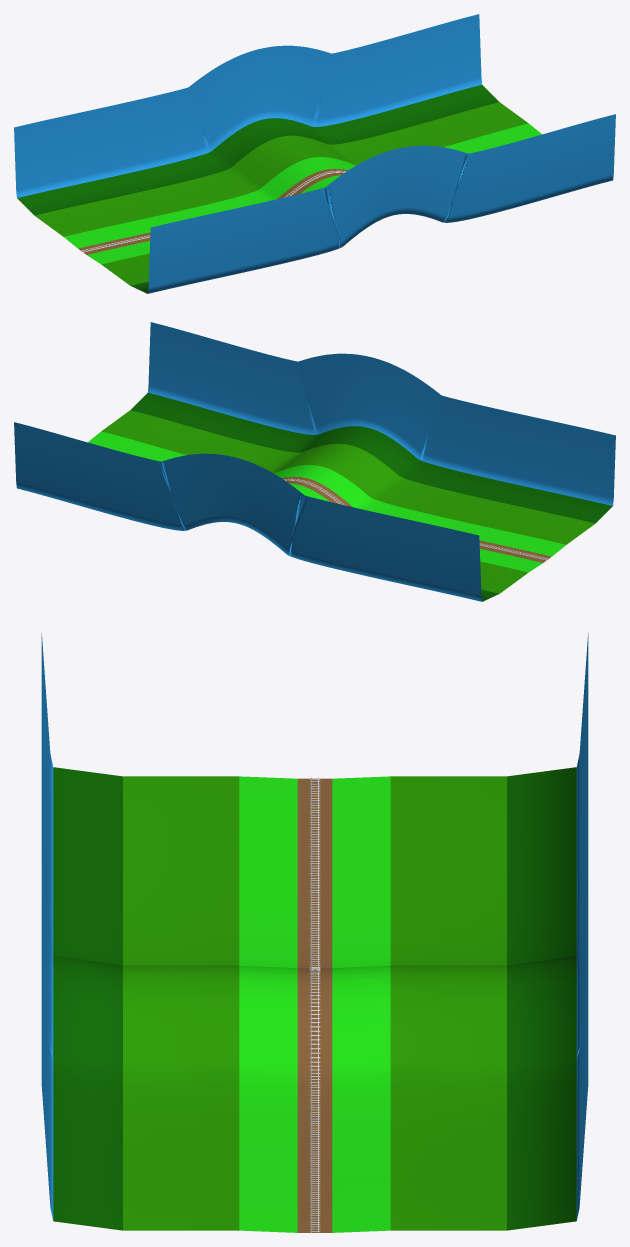
The model's file is Bache1.fbx.
3 renders of one model, top to bottom at view 1: azimuth 30°, elevation 25°; view 2: azimuth 150°, elevation 25°; view 3: azimuth 270°, elevation 25°, orthographic. The views are drawn at different scales.
Visible parts, largest first — view 1: Bache+1.002; view 2: Bache+1.002; view 3: Bache+1.002.
Boxes of the visible parts, x1,y1,x2,y2 form: Bache+1.002: (14,14,615,293); Bache+1.002: (14,322,615,601); Bache+1.002: (41,633,588,1232).
Size of the model in its own units: 19656 by 3916 by 10000.
